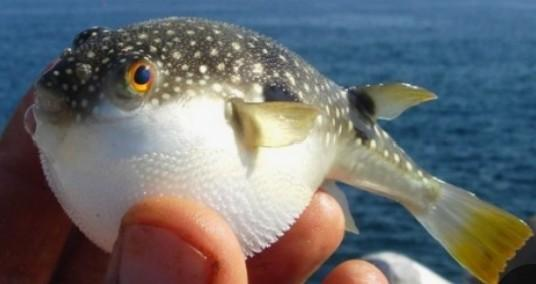fish: (25, 17, 530, 282)
